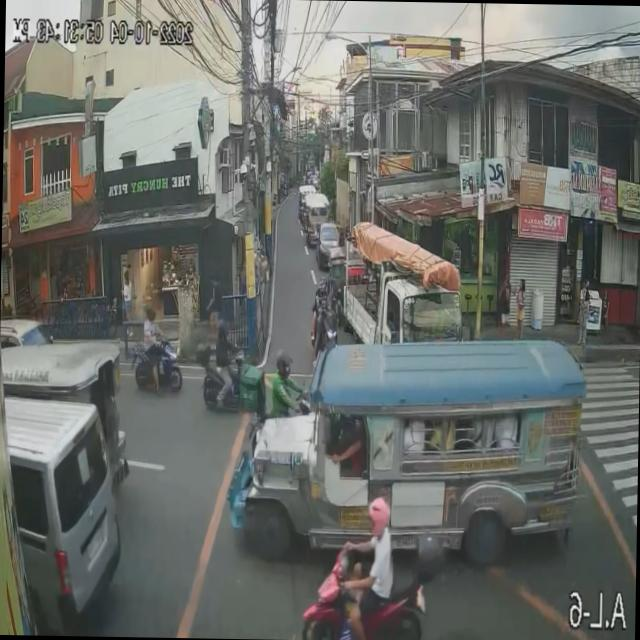full: (275, 349, 292, 378)
half: (366, 494, 392, 541)
